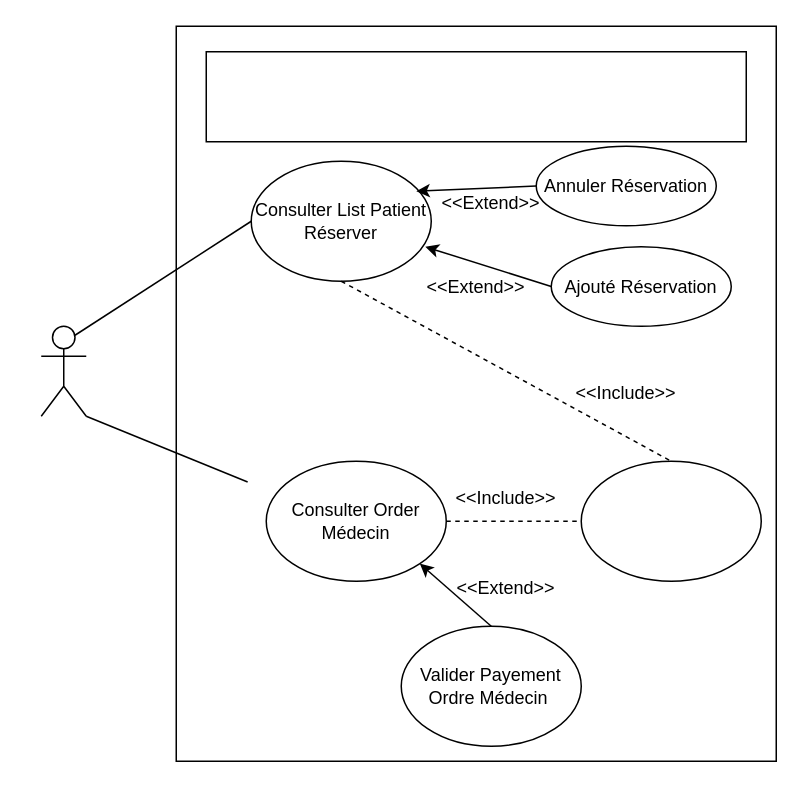
Image size: 803x788. Some labels were removed from this diagram. The centre of each missing label's shape, as x and y in pixels:
"Authentification" belongs at (670,520).
"Sécritaire" belongs at (63,370).
"Use Case <<Sécritaire>>" belongs at (475,96).
